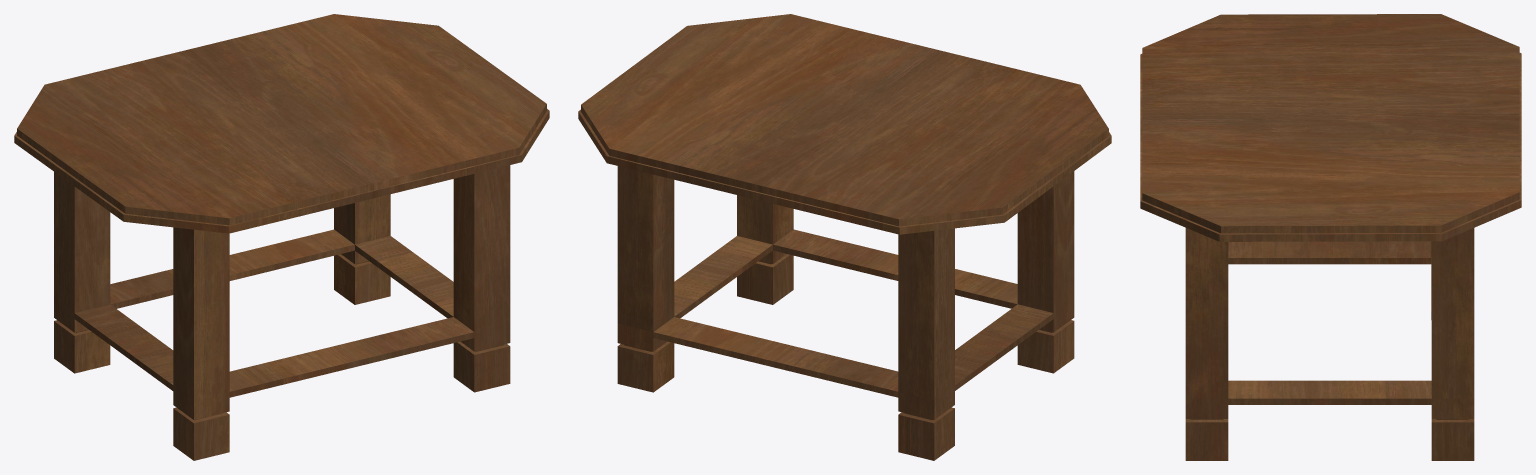
File: mesadecentro.fbx
3 views of the same model, side by side, from view 1: azimuth 30°, elevation 25°; view 2: azimuth 150°, elevation 25°; view 3: azimuth 270°, elevation 25° (orthographic). The views are drawn at different scales.
Visible parts, largest first — view 1: mesa de centro; view 2: mesa de centro; view 3: mesa de centro.
Boxes of the visible parts, x1,y1,x2,y2 form: mesa de centro: (14,14,549,460); mesa de centro: (578,14,1111,460); mesa de centro: (1140,14,1521,460).
Bounding box in the file's own units: 70.22 × 39.96 × 52.74.
